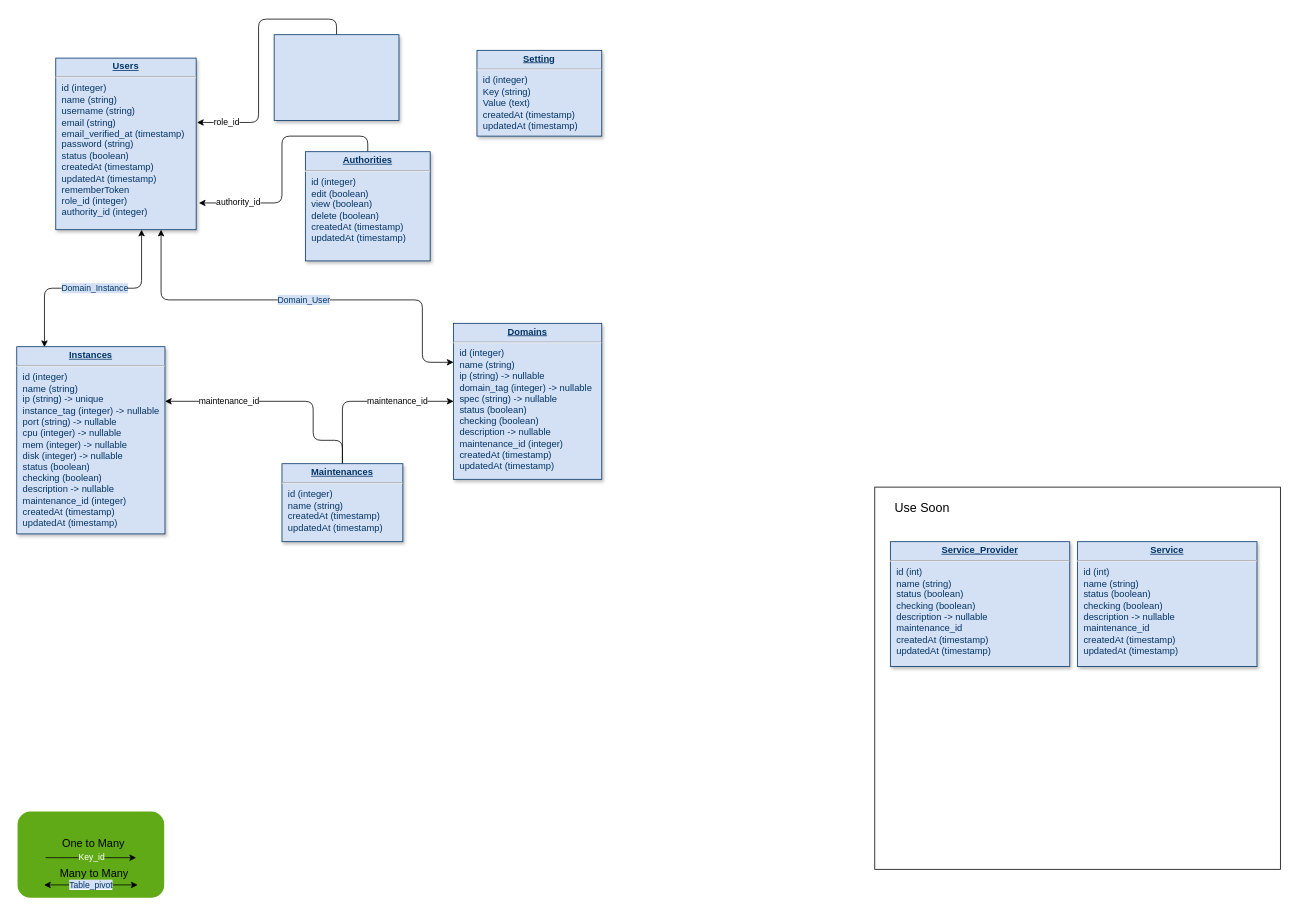
Image size: 1294x912. Some labels were removed from this diagram. Here are the shapes that lost their labels. From the top down, the centre of each, then its label:
the point at 337,78: Roles id (integer) name (string) createdAt (timestamp) updatedAt (timestamp)
the point at 90,854: Database Relationship
